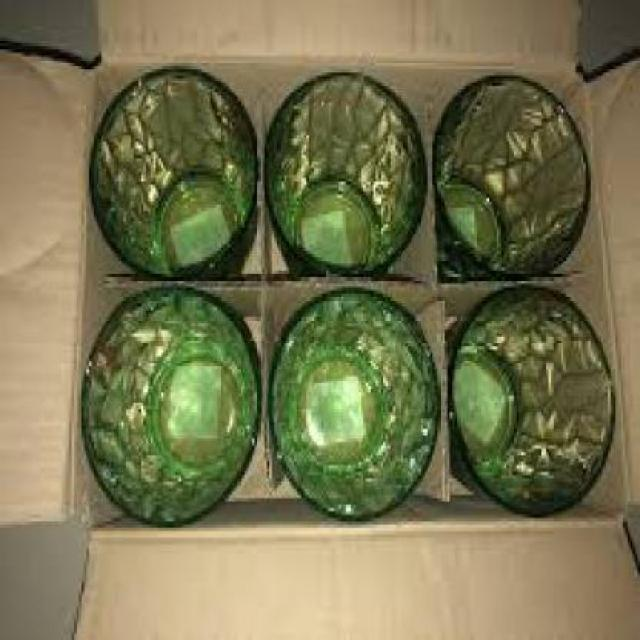kaca: (78, 283, 260, 525), (266, 287, 440, 518), (451, 284, 614, 516), (84, 63, 256, 271), (260, 69, 425, 271), (431, 69, 589, 277)
